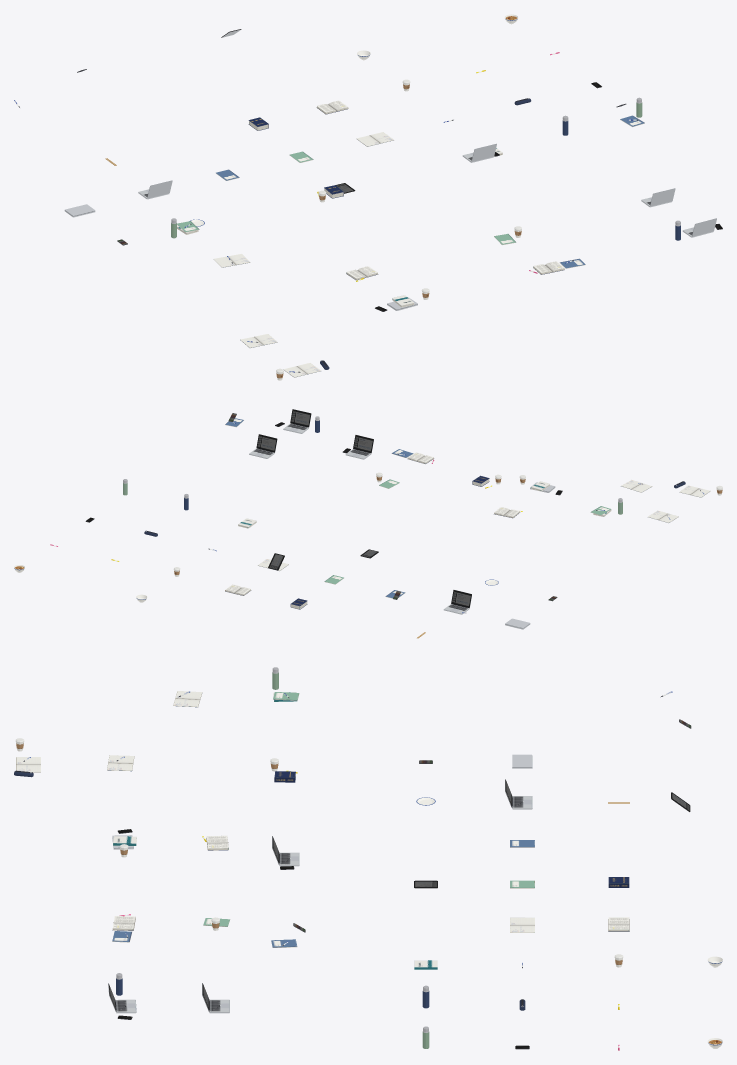
File: desk_props.glb
The picture shows the model from 3 angles, top to bottom: view 1: azimuth 30°, elevation 25°; view 2: azimuth 150°, elevation 25°; view 3: azimuth 270°, elevation 25°; orthographic projection. The views are drawn at different scales.
Visible parts, largest first — view 1: no part large enough to name; view 2: tset_laptop, lset_laptop, item_laptop_open, rset_laptop; view 3: tset_laptop.
Boxes of the visible parts, x1,y1,x2,y2 form: tset_laptop: (275,409,319,433); lset_laptop: (342,435,373,459); item_laptop_open: (443,590,471,614); rset_laptop: (249,434,277,458); tset_laptop: (108,973,136,1019).
Size of what is drawn, in the model's own units: 7.43 by 1.02 by 7.35.
1 material, 1 textured.
